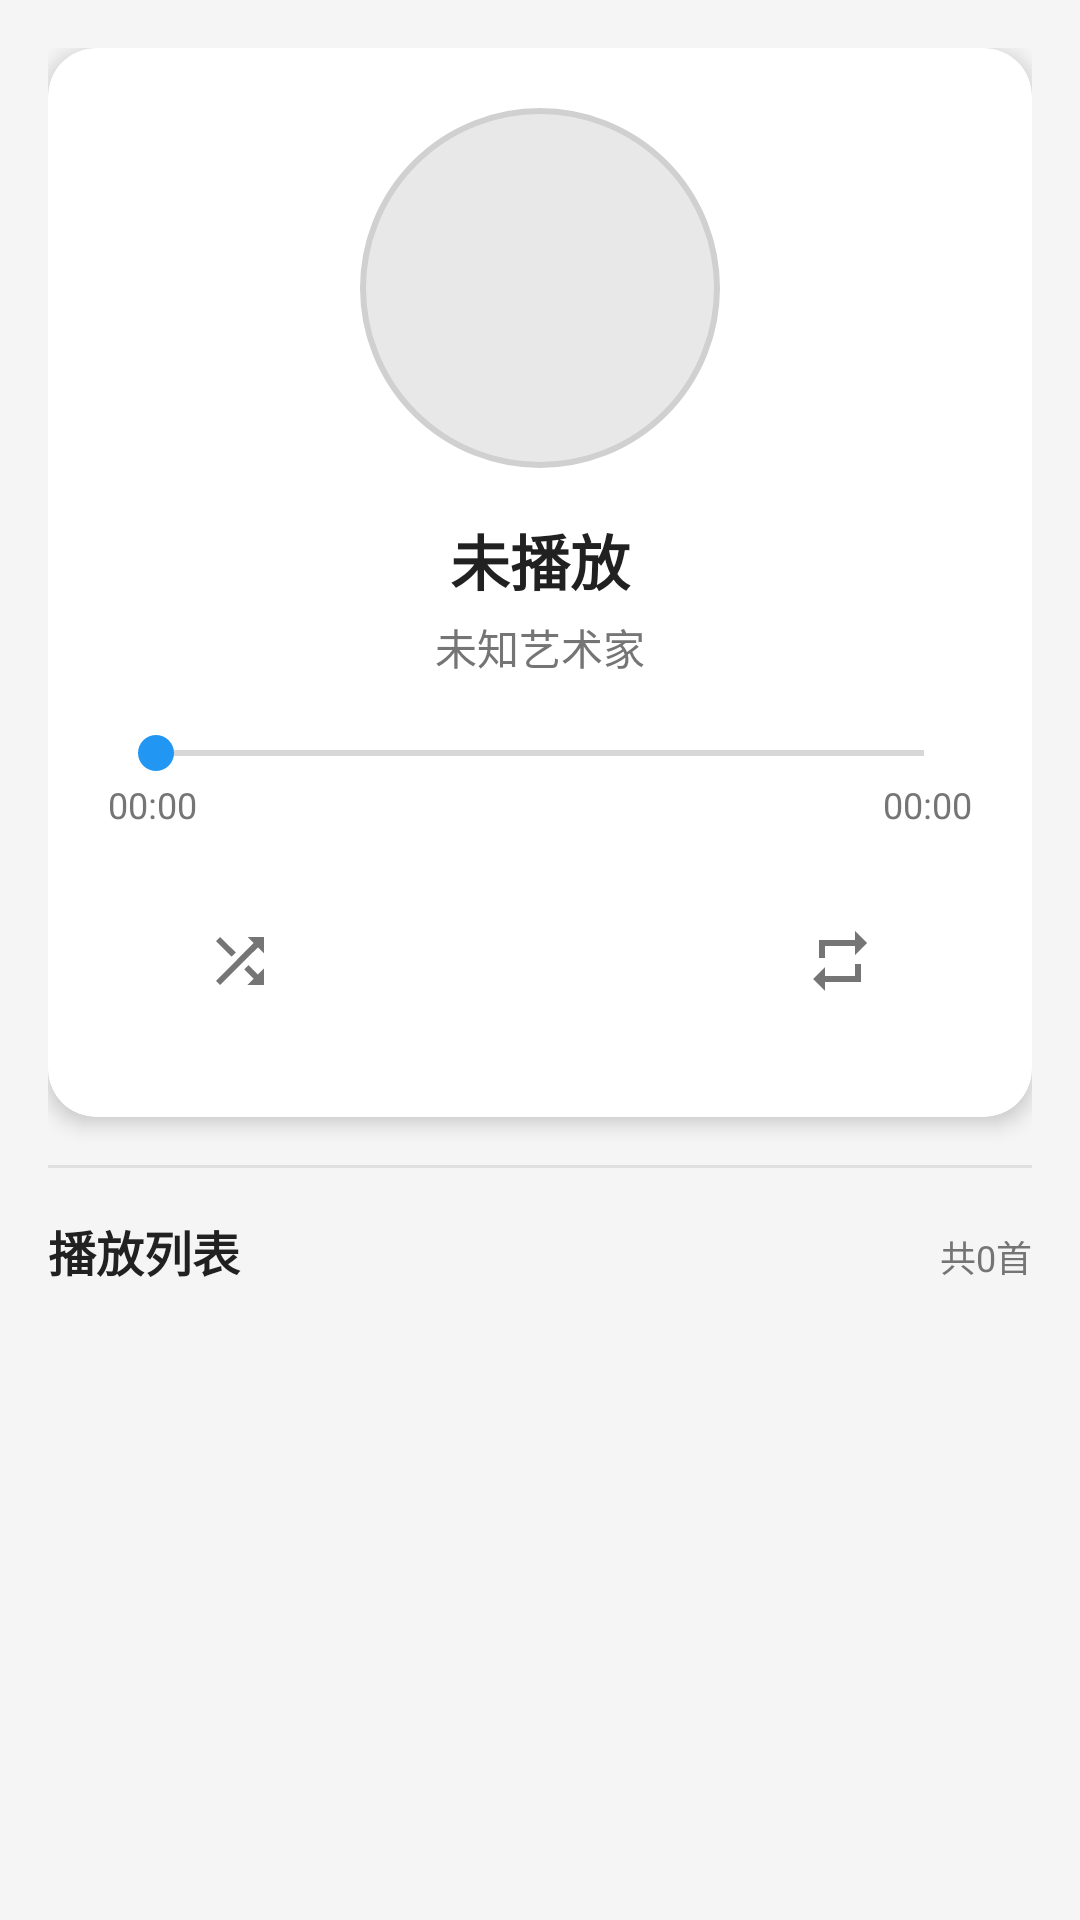

Named icons in this screenshot (1080*1920) and their centers, [x,y]:
循环播放: [840,961]
随机播放: [240,961]
